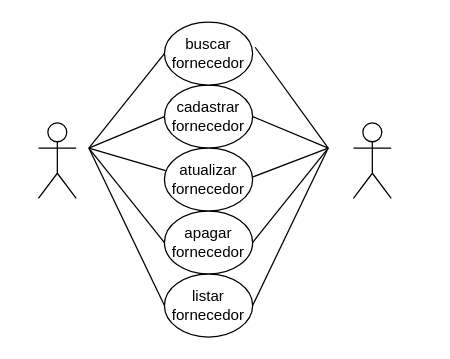
Some shapes in this 450 by 359 pixel diagram are drawn without their labels. The shapes that lost their labels are listed below. From the top down, each one's box as (x1, y1, x2, y2) in pixels, then its label:
(37, 122, 76, 198): fornecedor
(352, 122, 391, 198): banco de dados
